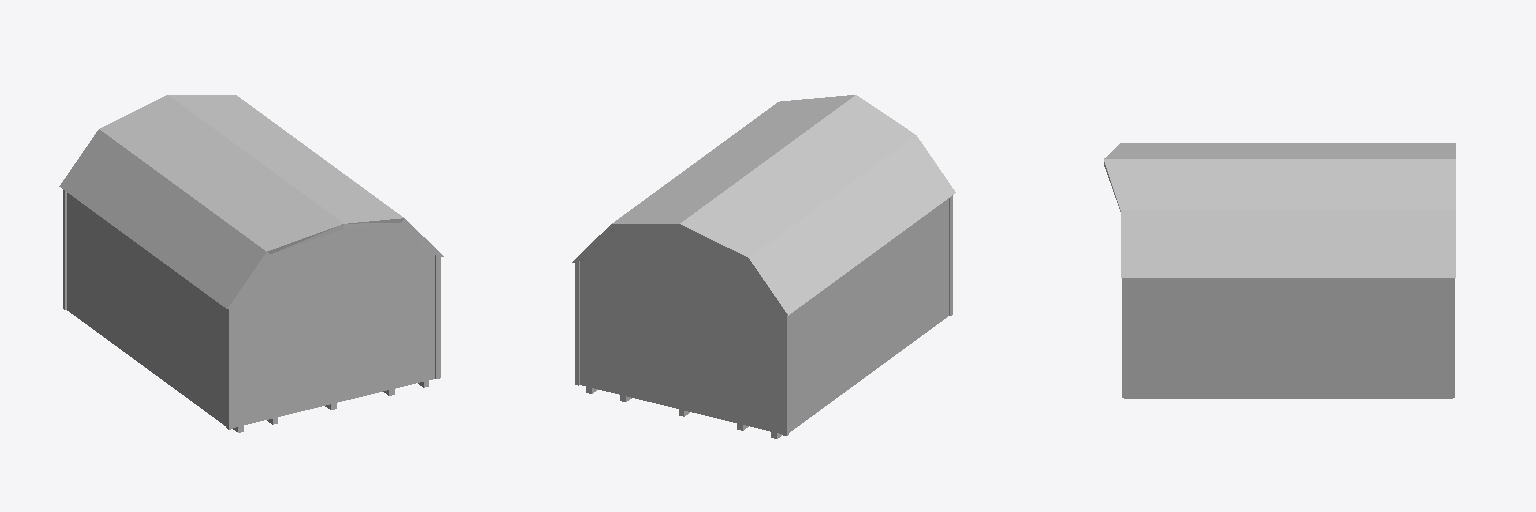
The model's file is High Wall Barns_12x16.obj.
3 views of the same model, side by side, from view 1: azimuth 30°, elevation 25°; view 2: azimuth 150°, elevation 25°; view 3: azimuth 270°, elevation 25° (orthographic).
Visible parts, largest first — view 1: High Wall Barns_12x16.obj; view 2: High Wall Barns_12x16.obj; view 3: High Wall Barns_12x16.obj.
Part boxes in pixels (bbox=[...]): High Wall Barns_12x16.obj: bbox=[59, 95, 443, 432]; High Wall Barns_12x16.obj: bbox=[572, 95, 955, 438]; High Wall Barns_12x16.obj: bbox=[1104, 143, 1455, 398].
Size of the model in its own units: 3.72 by 3.17 by 5.23.